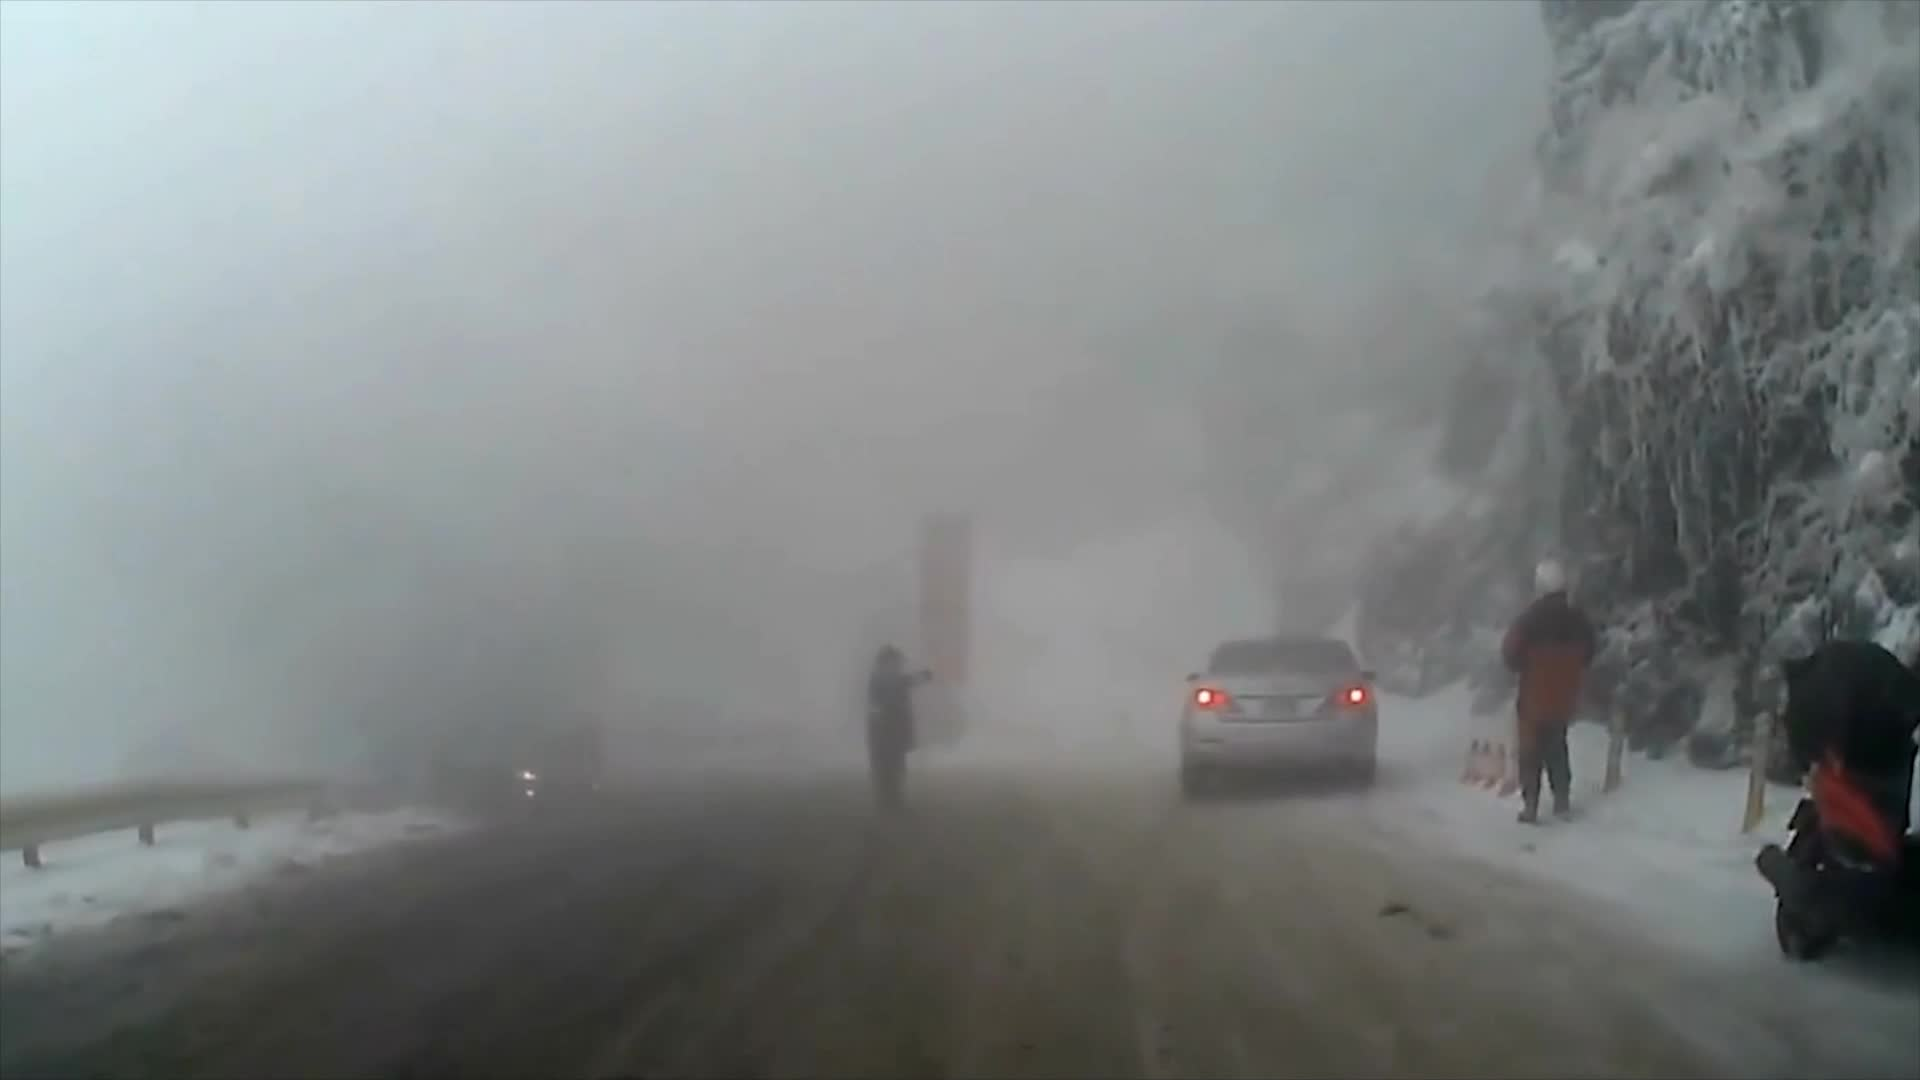pedestrian: (1503, 554, 1610, 828), (865, 643, 930, 819)
vehicle: (1178, 634, 1376, 801)
